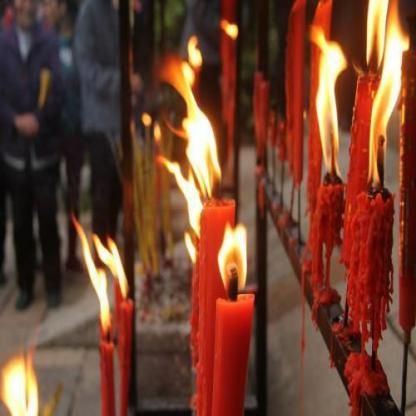fire: (162, 32, 223, 198), (70, 206, 140, 331), (305, 27, 347, 181), (363, 3, 395, 190), (163, 155, 199, 256), (3, 339, 43, 413), (215, 222, 251, 290)
